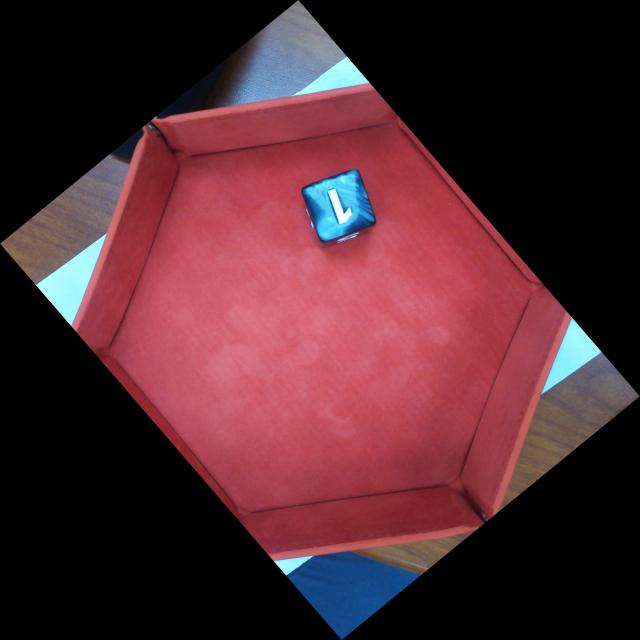dice: (302, 170, 379, 240)
